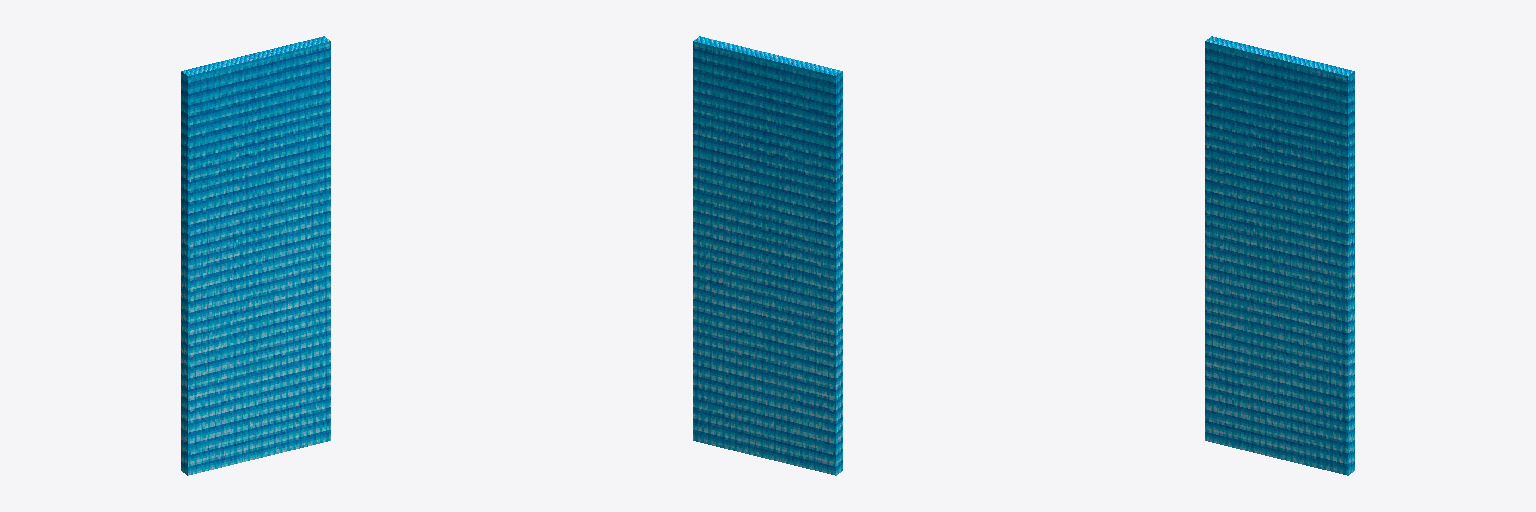
The picture shows the model from 3 angles: view 1: azimuth 30°, elevation 25°; view 2: azimuth 150°, elevation 25°; view 3: azimuth 330°, elevation 25°; orthographic projection.
Parts seen in each view (by area): view 1: Cube; view 2: Cube; view 3: Cube.
Part boxes in pixels (left/top/right/bottom): Cube: left=181, top=36, right=330, bottom=475; Cube: left=693, top=36, right=842, bottom=475; Cube: left=1205, top=36, right=1354, bottom=475.
Size of the model in its own units: 0.6 by 1.6 by 0.05.
1 materials, 1 textured.